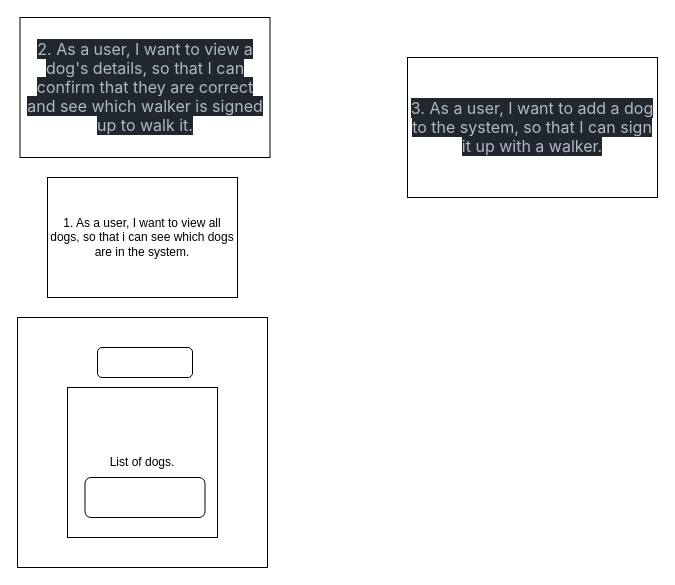
Image size: 675x585. Some labels were removed from this diagram. Each missing label, with the centre of its shape:
"Dog Details dropdown for each dog" goes at [144,497].
"Dogs." goes at [144,362].
